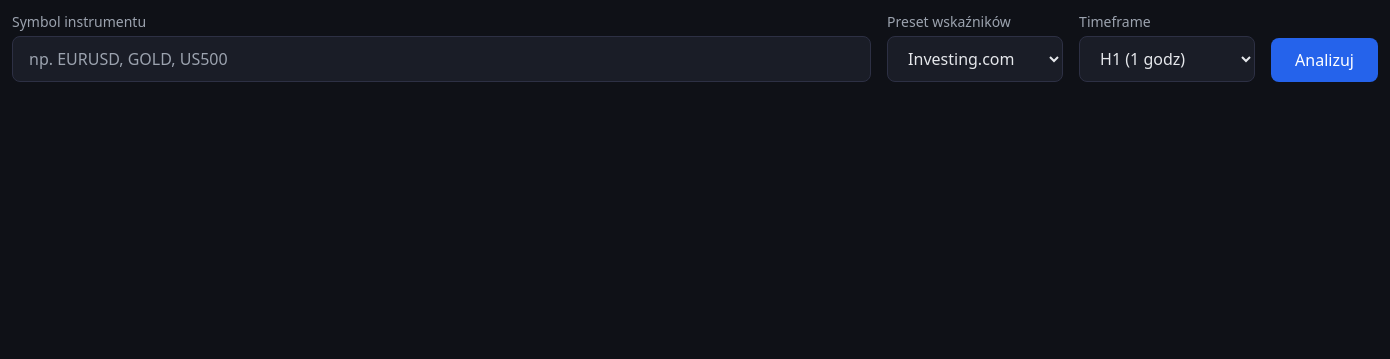
Test: AnalysisForm › kliknięcie sugestii ustawia symbol i zamyka listę
Type "EU" into the dropdown labelled "Symbol instrumentu" at (442, 59), box [12, 36, 871, 82]
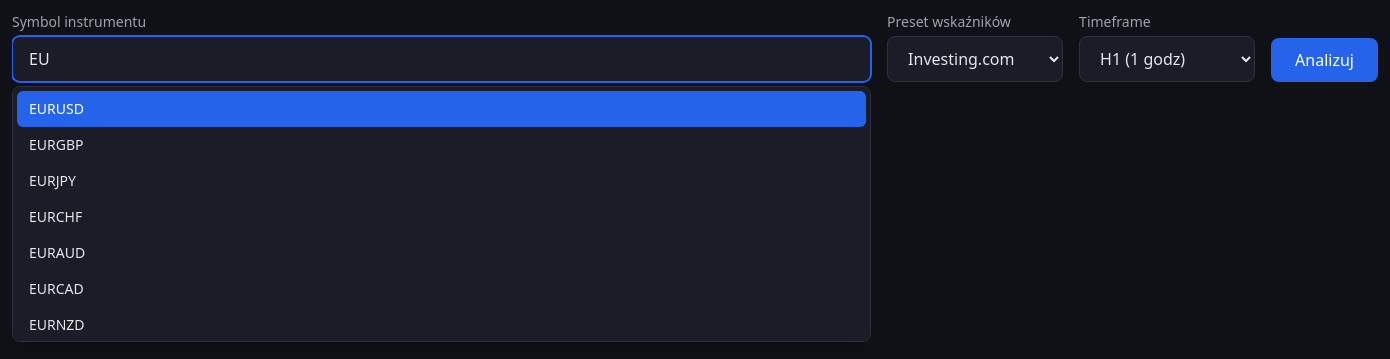
Click the button "EURUSD" at (56, 108), box [17, 91, 866, 127]
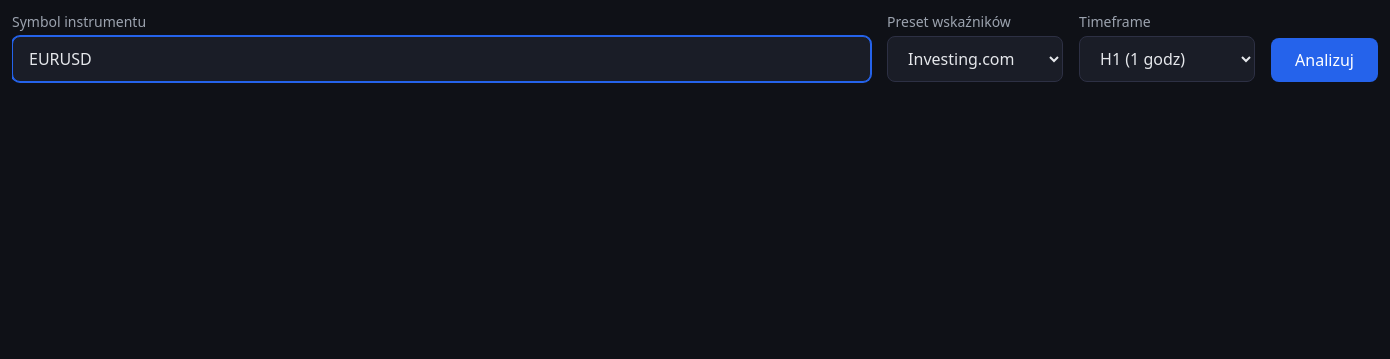
Now the dropdown labelled "Symbol instrumentu" holds "EURUSD", box [12, 36, 871, 82]
